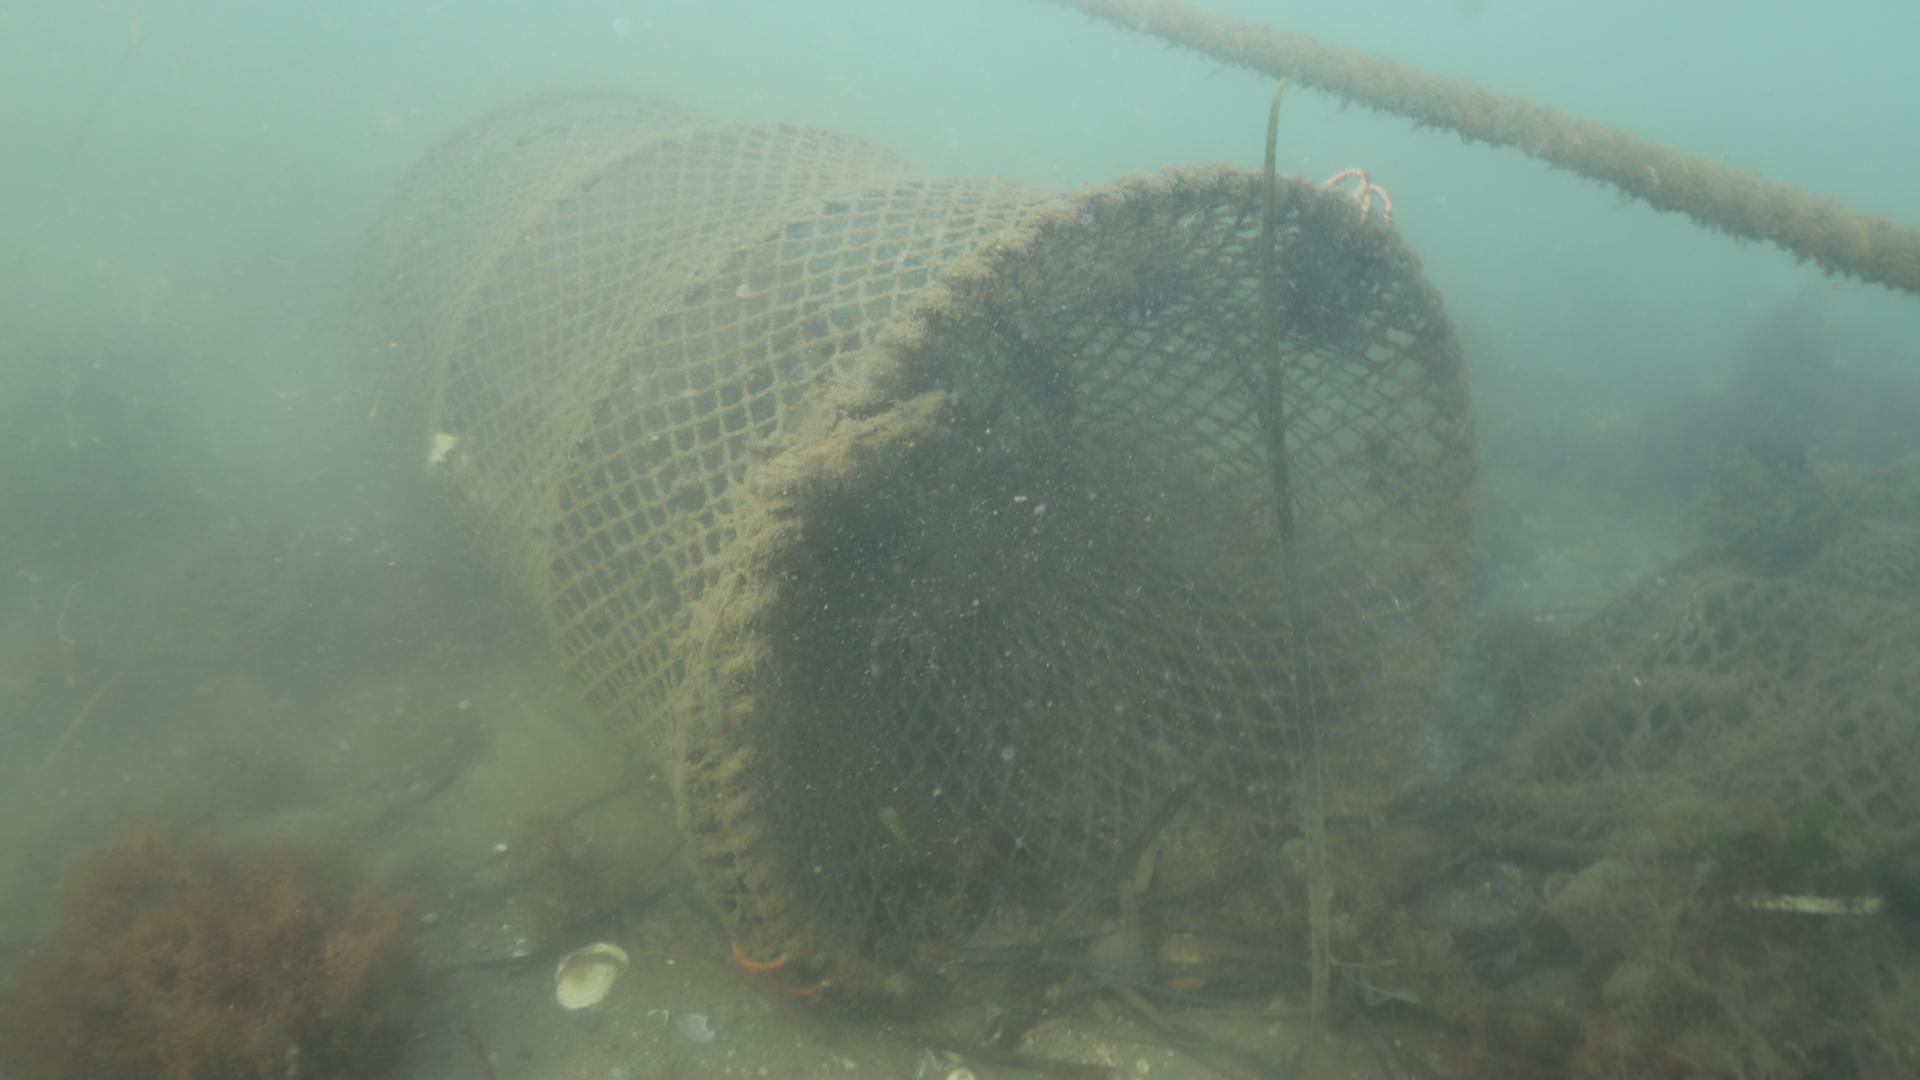fish net: (1501, 526, 1920, 862)
rope: (1065, 0, 1920, 294)
spring fish trap: (335, 83, 1481, 1027)
